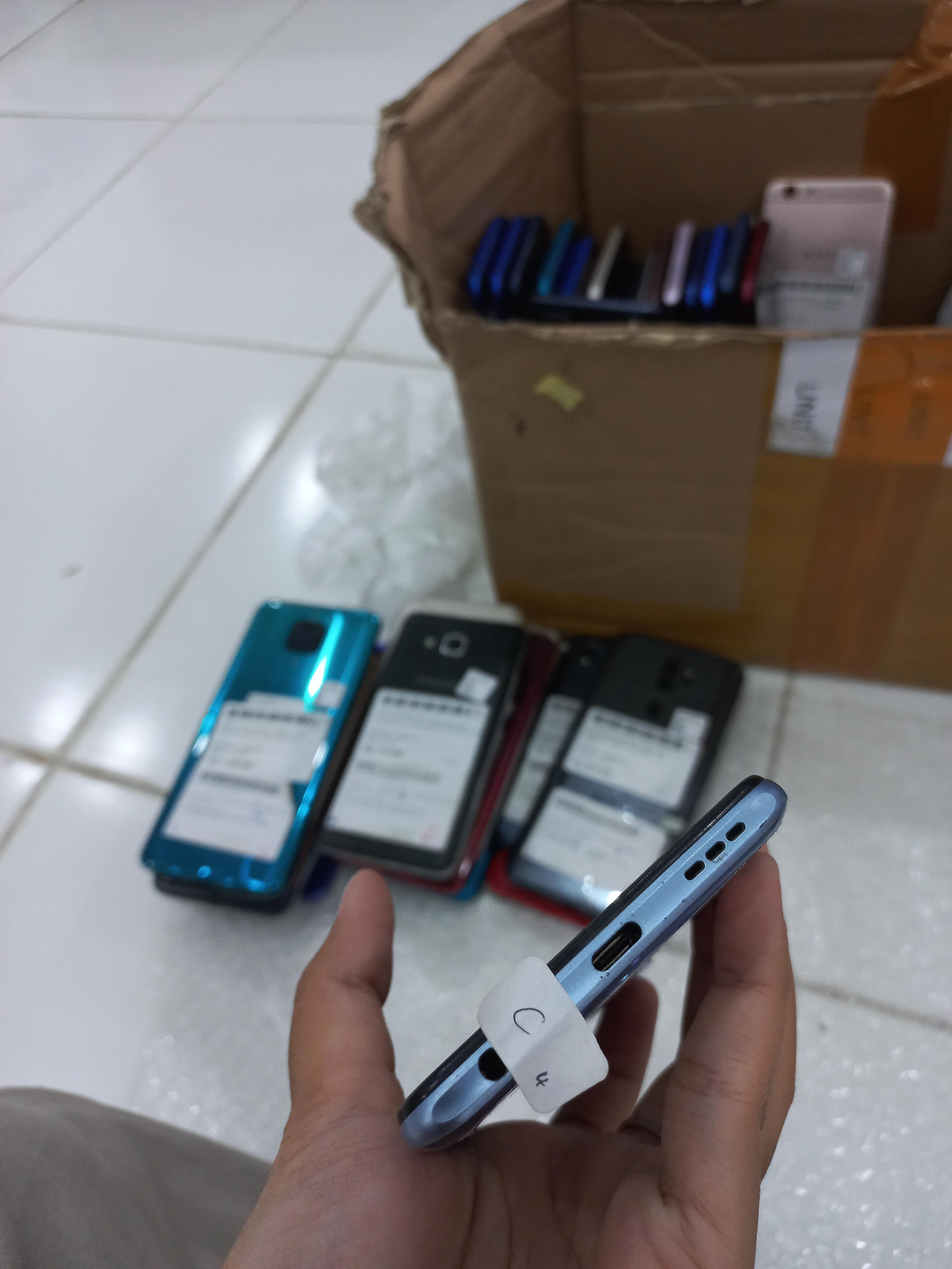phone good: (432, 800, 793, 1146)
